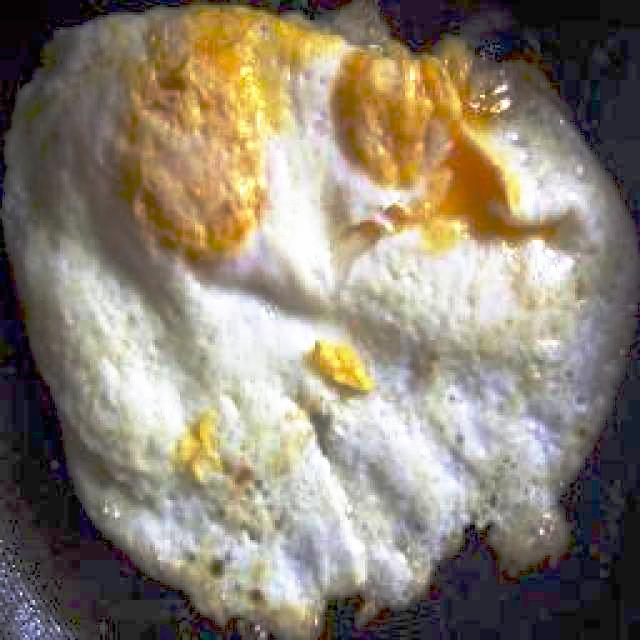fried_eggs: (3, 4, 637, 639)
